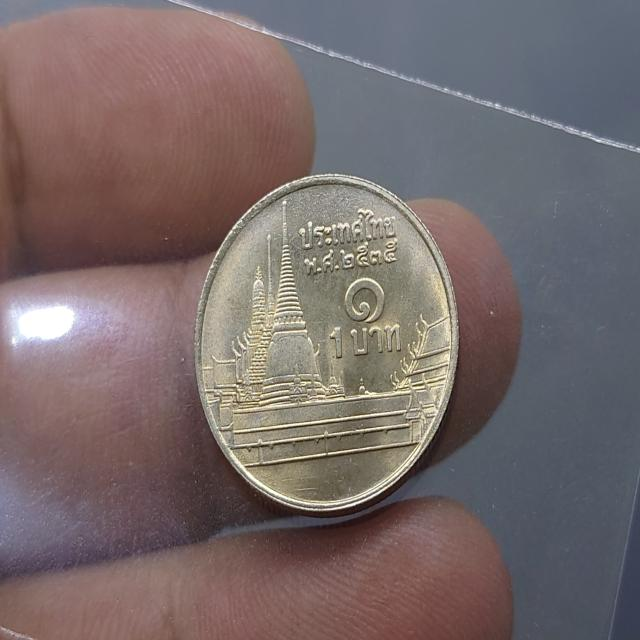1 Bath: (187, 165, 469, 531)
